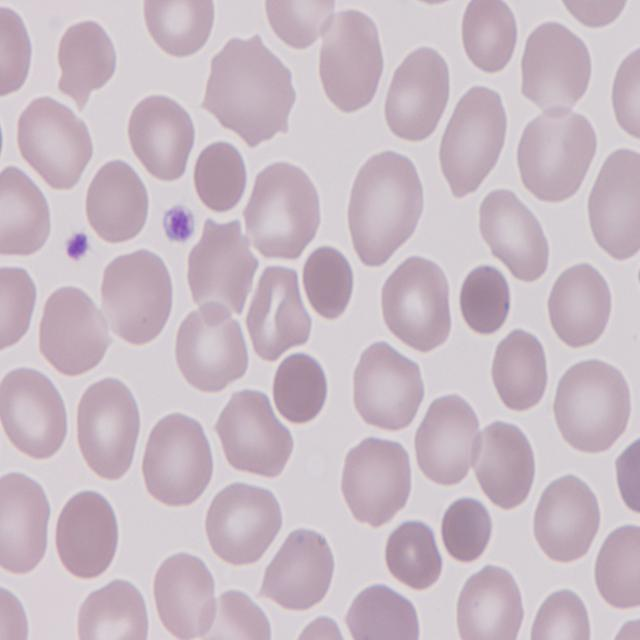Platelets: (164, 210, 198, 248)
RBC: (202, 34, 299, 146), (344, 150, 428, 269), (436, 77, 512, 198), (12, 92, 96, 194), (551, 358, 636, 458), (513, 106, 599, 204), (242, 160, 323, 264), (98, 246, 177, 348), (516, 13, 594, 116), (314, 10, 390, 114), (376, 254, 454, 354), (142, 406, 218, 508), (72, 376, 145, 482), (340, 429, 416, 530), (172, 300, 249, 398), (414, 391, 487, 494), (348, 337, 425, 434), (214, 388, 294, 480), (477, 189, 552, 286), (380, 43, 452, 144), (204, 480, 286, 568), (531, 474, 605, 570), (0, 366, 73, 462), (38, 282, 111, 378), (49, 484, 120, 582), (264, 524, 338, 616), (124, 91, 196, 185), (82, 156, 152, 252), (472, 418, 542, 514), (149, 550, 221, 640), (544, 260, 615, 350), (0, 469, 57, 581), (584, 149, 640, 260), (55, 13, 119, 104), (455, 563, 529, 640), (491, 329, 554, 417), (0, 164, 53, 262), (141, 0, 219, 63), (458, 0, 520, 78), (74, 580, 152, 640), (593, 520, 640, 615), (342, 582, 420, 638), (383, 517, 442, 591), (261, 0, 342, 50), (524, 586, 594, 640), (0, 259, 38, 356), (608, 39, 640, 147), (0, 2, 34, 96), (552, 0, 636, 31), (613, 432, 640, 528), (0, 575, 28, 640), (291, 615, 353, 640)
Spherocyte: (270, 346, 332, 427), (190, 140, 250, 220), (454, 260, 512, 340), (300, 242, 356, 323), (439, 495, 497, 566)
